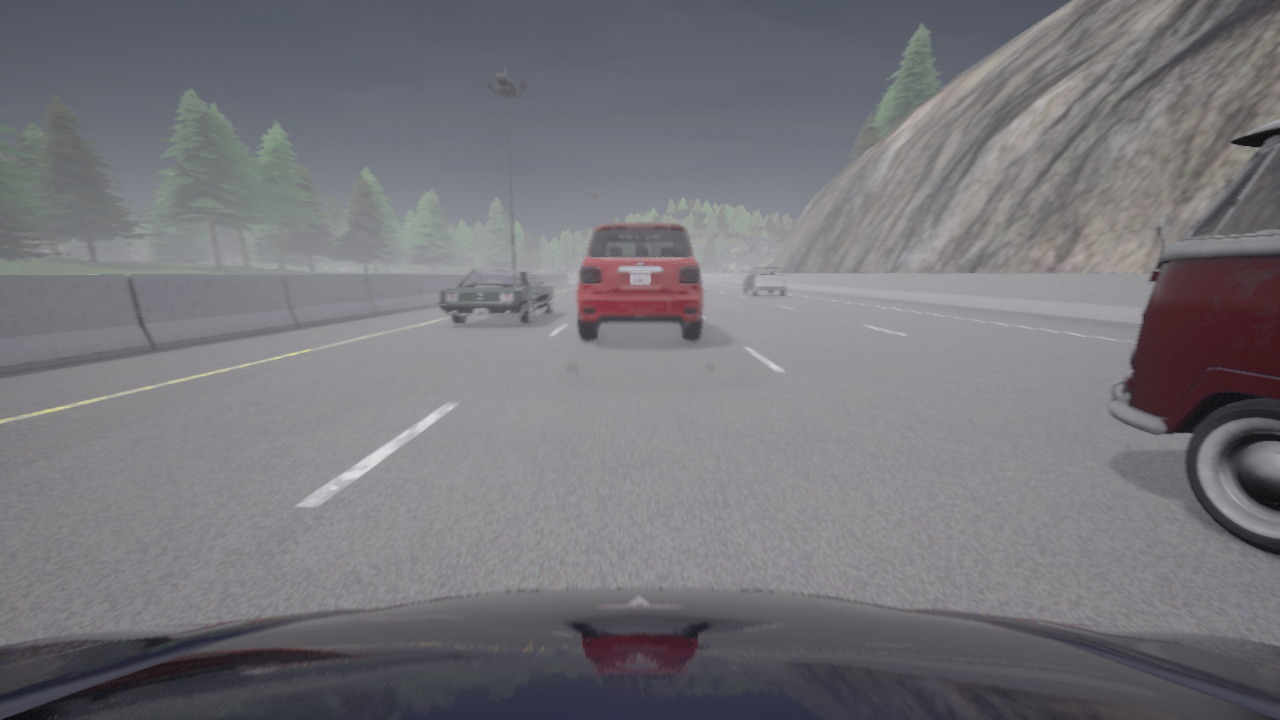cyclist: (0, 588, 1279, 719), (1108, 118, 1279, 556), (577, 223, 702, 340), (439, 269, 554, 323), (742, 266, 786, 296)
